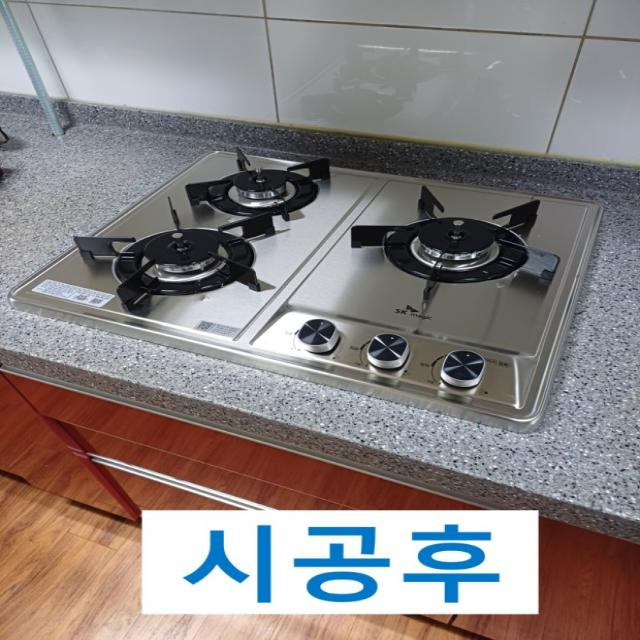knob_ON: (101, 123, 567, 367)
